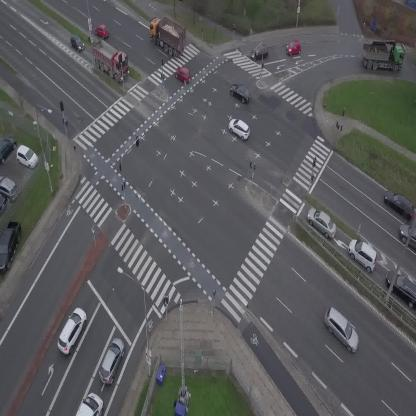car: (317, 305, 367, 355), (52, 305, 91, 356), (95, 336, 129, 387), (342, 235, 384, 274), (302, 204, 341, 242), (225, 115, 254, 142), (228, 81, 254, 105), (65, 32, 87, 55), (172, 65, 194, 85), (400, 223, 416, 249), (93, 23, 111, 41), (249, 45, 269, 60), (286, 41, 301, 56)
lorry: (83, 34, 137, 85), (140, 11, 194, 60), (362, 38, 405, 71), (75, 393, 103, 416)
